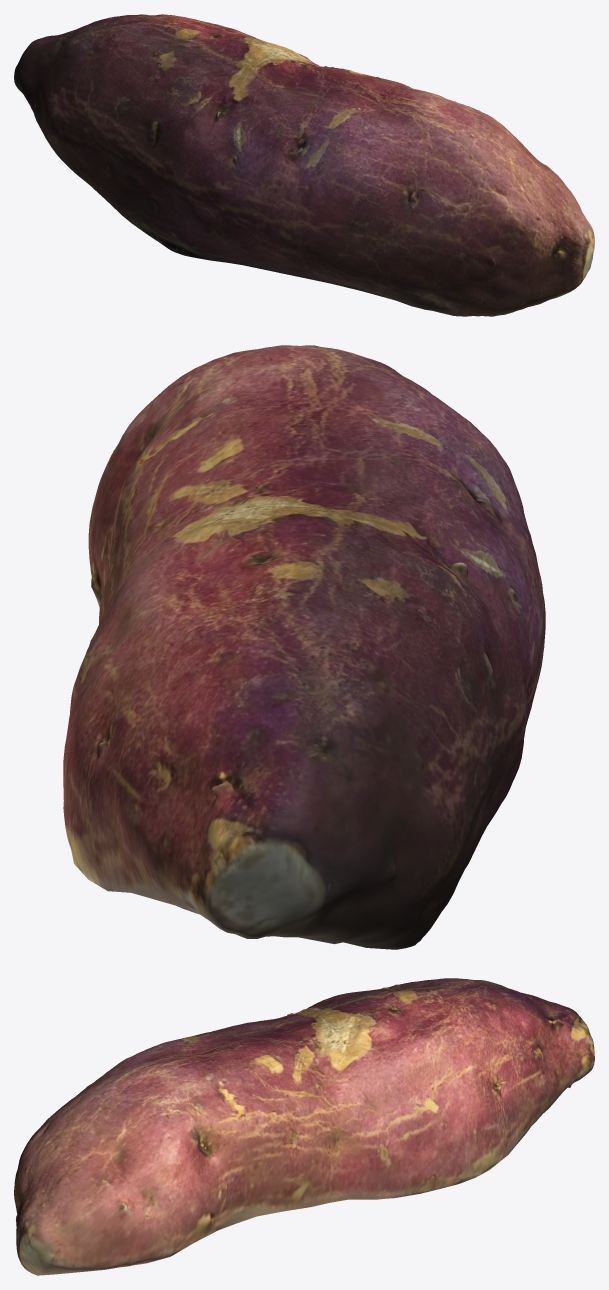
3 renders of one model, top to bottom at view 1: azimuth 30°, elevation 25°; view 2: azimuth 150°, elevation 25°; view 3: azimuth 270°, elevation 25°, orthographic. The views are drawn at different scales.
Parts seen in each view (by area): view 1: baked_mesh_f0eceda9; view 2: baked_mesh_f0eceda9; view 3: baked_mesh_f0eceda9.
Boxes of the visible parts, x1=… form: baked_mesh_f0eceda9: x1=14, y1=14, x2=594, y2=316; baked_mesh_f0eceda9: x1=63, y1=345, x2=545, y2=949; baked_mesh_f0eceda9: x1=14, y1=978, x2=594, y2=1275.
Size of the model in its own units: 0.5819 by 0.3191 by 0.8366.
1 material, 1 textured.
